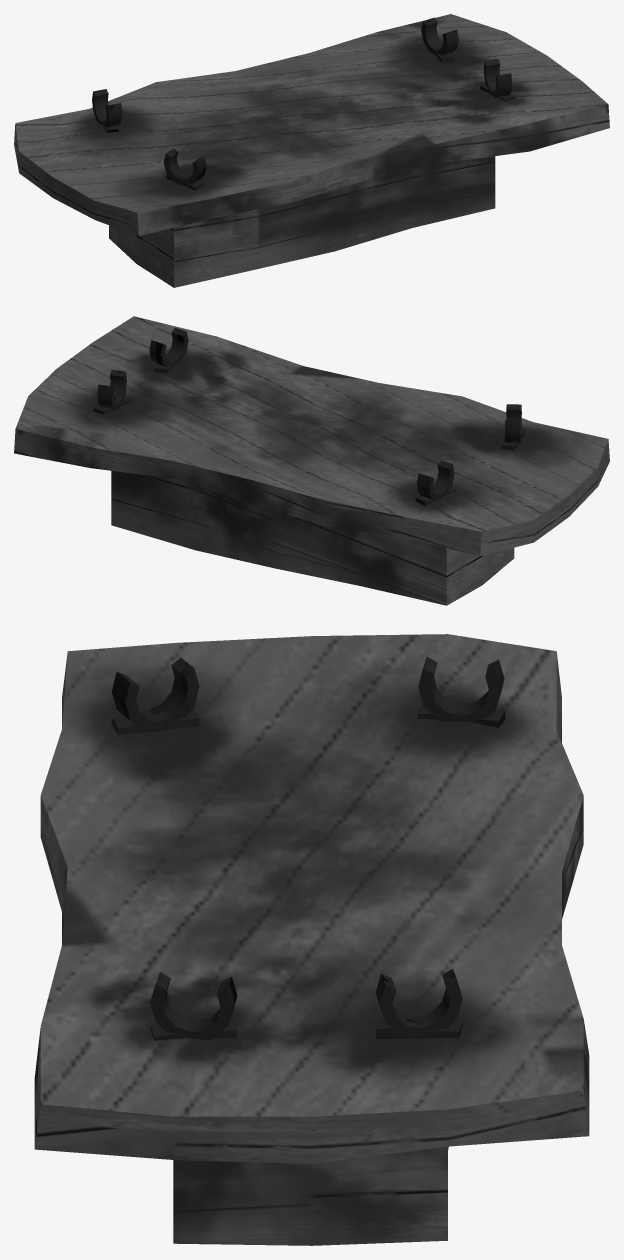
File: device.fbx
3 renders of one model, top to bottom at view 1: azimuth 30°, elevation 25°; view 2: azimuth 150°, elevation 25°; view 3: azimuth 270°, elevation 25°, orthographic. The views are drawn at different scales.
Parts seen in each view (by area): view 1: Cube, Cylinder.003, Cylinder, Cylinder.001, Cylinder.002; view 2: Cube, Cylinder.001, Cylinder.002, Cylinder.003, Cylinder; view 3: Cube, Cylinder, Cylinder.003, Cylinder.002, Cylinder.001.
Part boxes in pixels (x1=…): Cube: x1=14, y1=14, x2=609, y2=287; Cylinder.003: x1=421, y1=17, x2=458, y2=55; Cylinder: x1=163, y1=148, x2=206, y2=185; Cylinder.001: x1=92, y1=89, x2=122, y2=127; Cylinder.002: x1=483, y1=59, x2=512, y2=97; Cube: x1=14, y1=316, x2=609, y2=605; Cylinder.001: x1=417, y1=460, x2=454, y2=500; Cylinder.002: x1=149, y1=327, x2=188, y2=366; Cylinder.003: x1=97, y1=369, x2=126, y2=410; Cylinder: x1=505, y1=404, x2=521, y2=443; Cube: x1=34, y1=634, x2=589, y2=1245; Cylinder: x1=111, y1=657, x2=199, y2=731; Cylinder.003: x1=375, y1=968, x2=462, y2=1039; Cylinder.002: x1=150, y1=972, x2=237, y2=1040; Cylinder.001: x1=418, y1=656, x2=504, y2=721.
Size of the model in its own units: 412 by 112 by 200.
